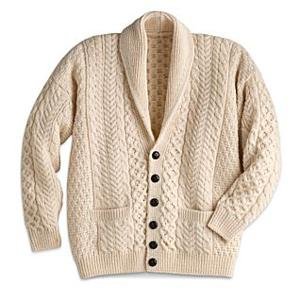S_cardigan sweater: (16, 31, 294, 281)
